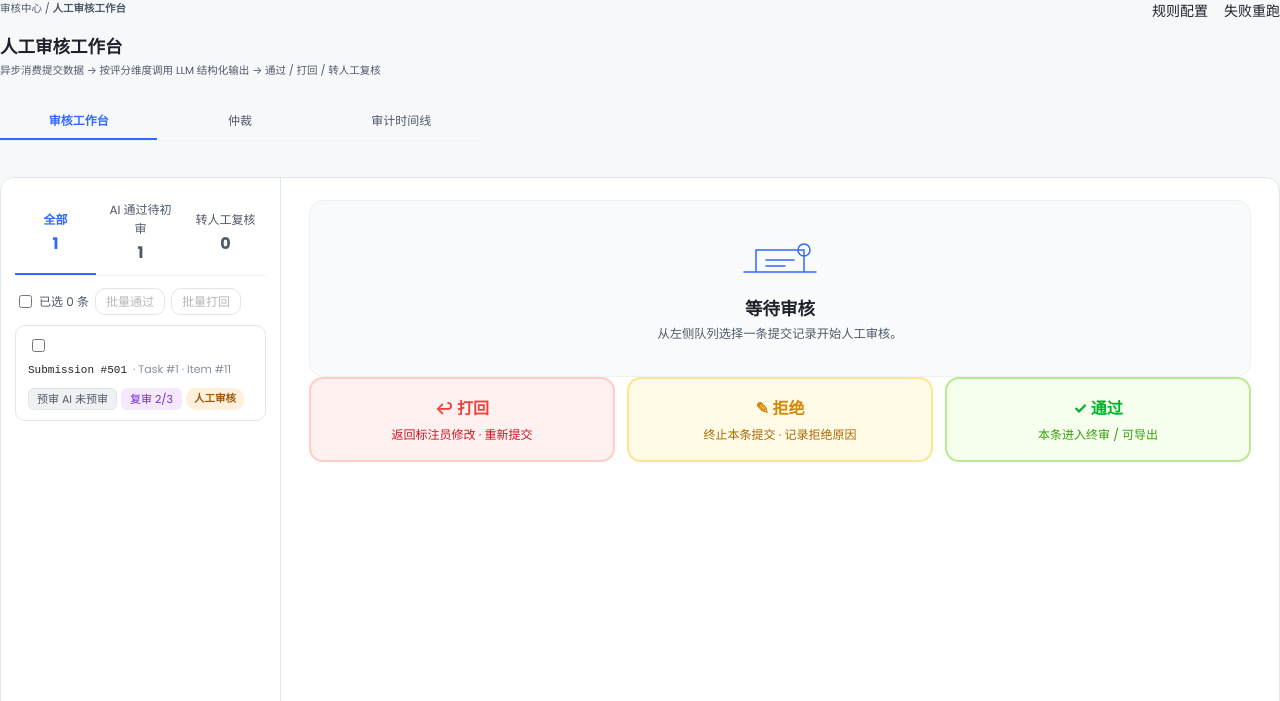
Test: ReviewerQueue schema runtime flow › shows an empty AI review state when no AI verdict exists
This screenshot has width=1280, height=701.
Click the text "Submission #501". click: click(78, 370)
box: [28,364,127,376]
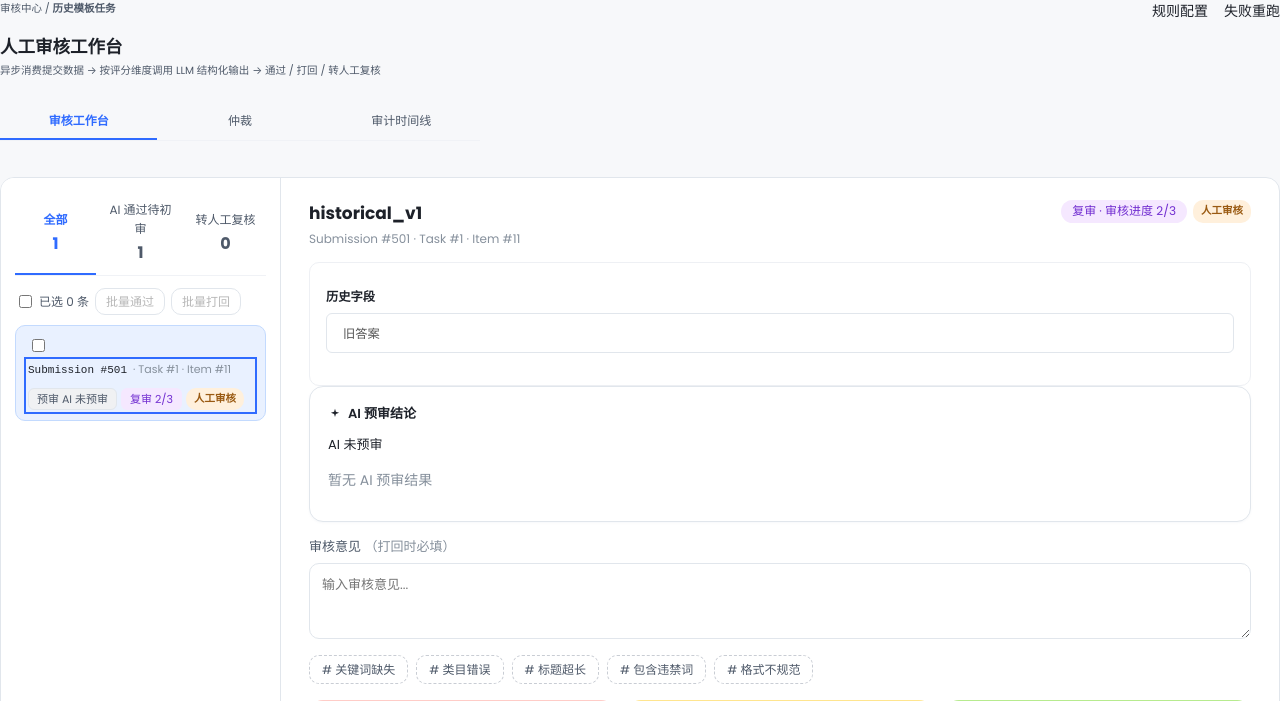
Expected: the text "AI 未预审" is shown, [328,435,382,454]
Expected: the text "暂无 AI 预审结果" is shown, [328,470,432,490]
